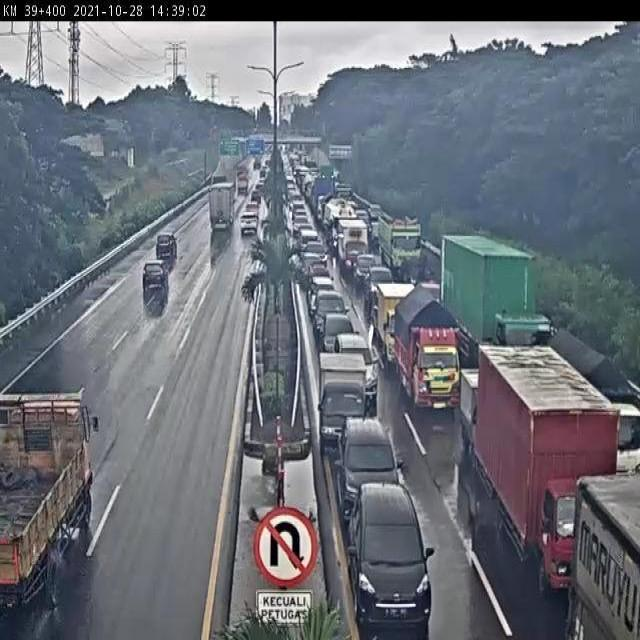car: (347, 481, 438, 624), (337, 419, 406, 528), (363, 574, 459, 640), (316, 353, 373, 460), (377, 205, 422, 276), (322, 312, 359, 368), (311, 292, 350, 345), (366, 266, 395, 314), (308, 276, 338, 319), (141, 260, 169, 291), (304, 242, 328, 274), (355, 255, 377, 288), (155, 231, 179, 259), (239, 212, 259, 239)
truck: (477, 345, 621, 620), (522, 321, 638, 492), (437, 232, 554, 393), (394, 281, 464, 415), (376, 286, 422, 370), (337, 219, 370, 277), (207, 182, 236, 234)
